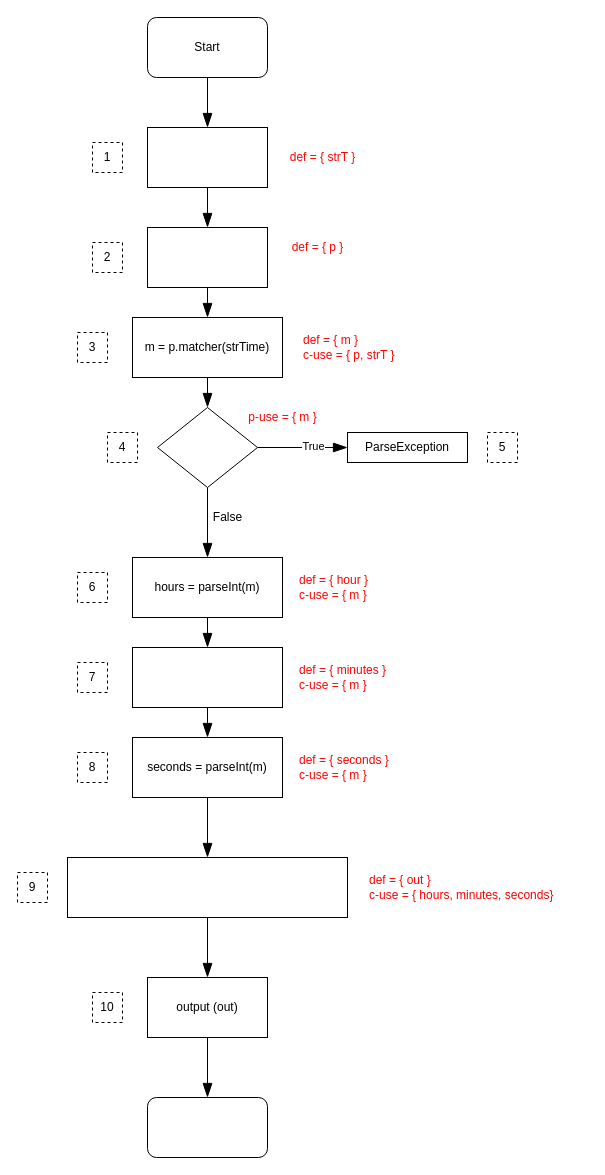
The diagram is 605 pixels wide and 1175 high, and some of its shapes have lost their labels. Each missing label, with the centre of its shape:
End: the point at 207,1127
Input ( strTime ): the point at 207,157
m.matches: the point at 207,447
minutes = parseInt(m): the point at 207,677
out = hours*36000 + minutes*60 + seconds: the point at 207,887
p = a pattern: the point at 207,257
